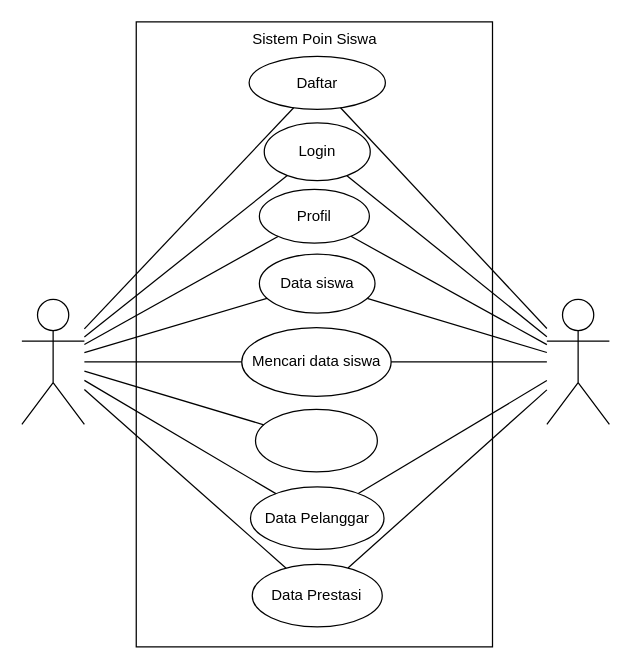
Some shapes in this 631 by 669 pixel diagram are drawn without their labels. The shapes that lost their labels are listed below. From the top down, each one's centre as x and y in pixels, then its label:
pixel 52 361: Guru
pixel 577 361: Murid
pixel 315 440: Pengisian Poin
